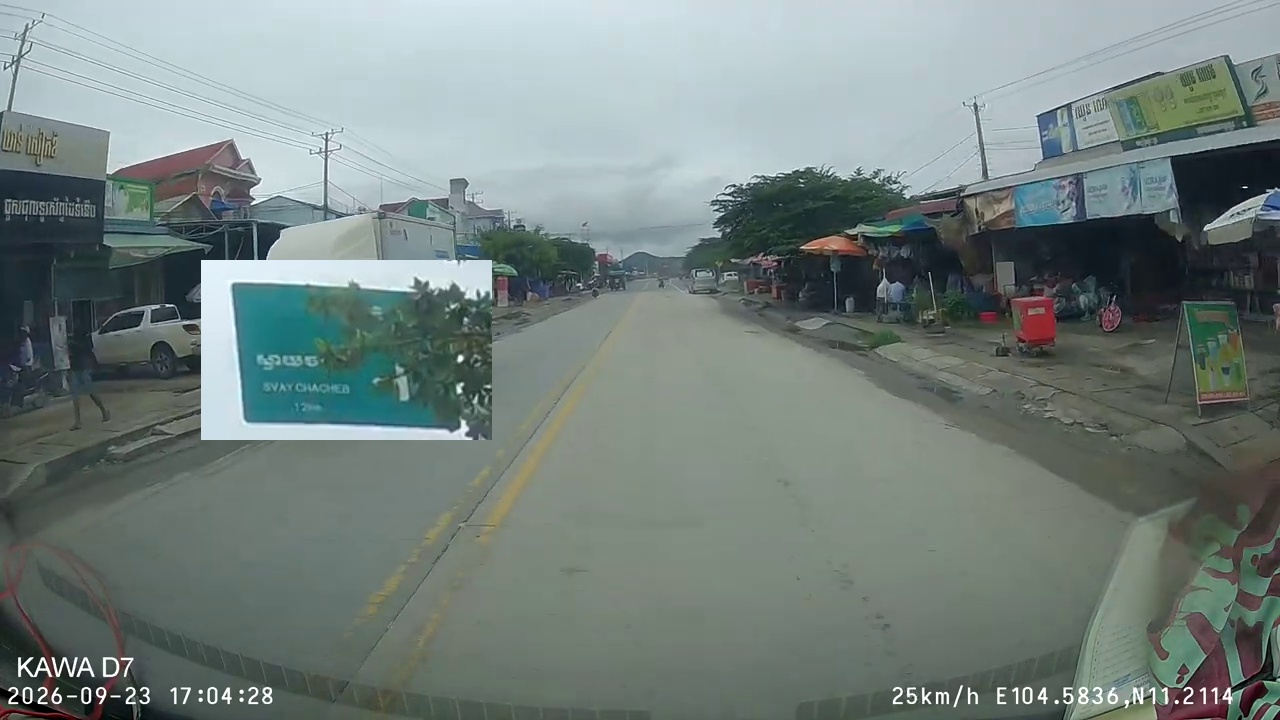direction_sign: (201, 260, 492, 440)
